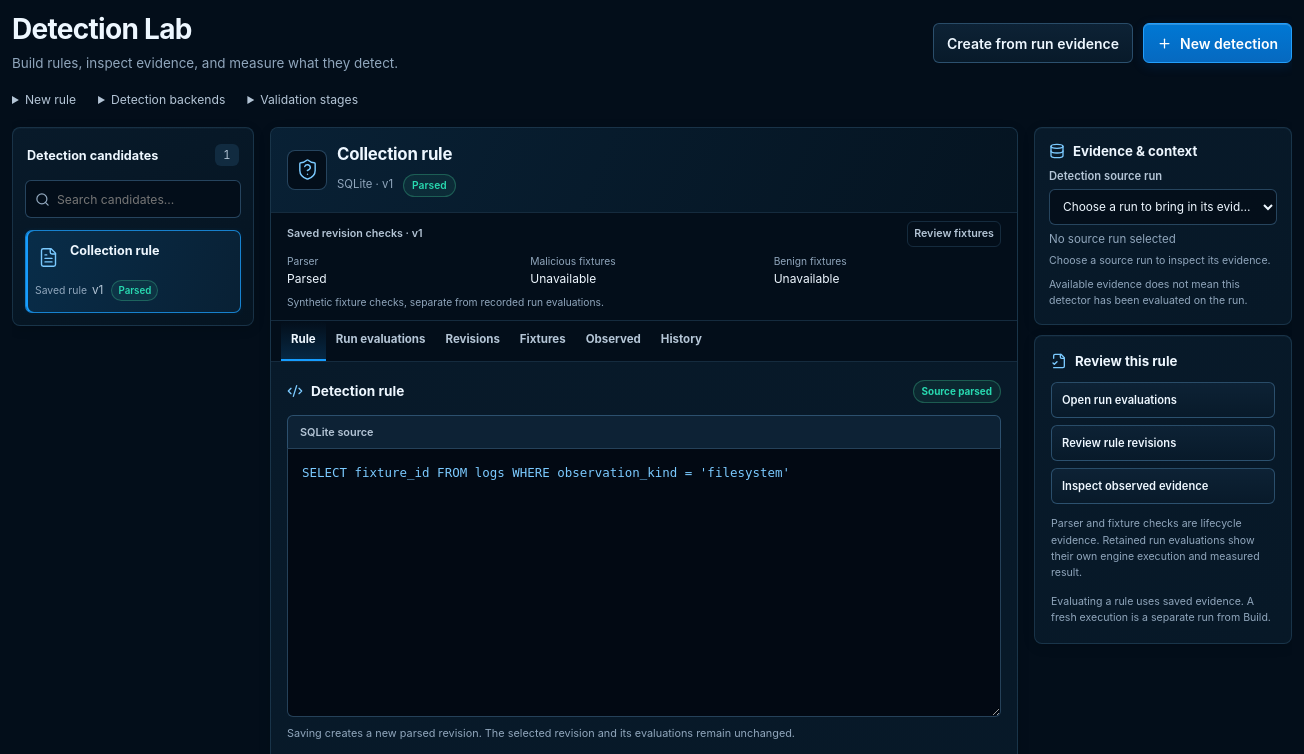
Scenario: keeps source context separate and routes rail actions through the existing review tabs
The image size is (1304, 754).
Check: the text box labelled "SQLite source" is shown, box [287,448,1001,717]
Check: the text "Parser and fixture checks are lifecycle evidence. Retained run evaluations show their own engine execution and measured " is shown, box [1051,517,1260,580]
Click the button "Open run evaluations" at point(1163, 400), box [1051,382,1275,418]
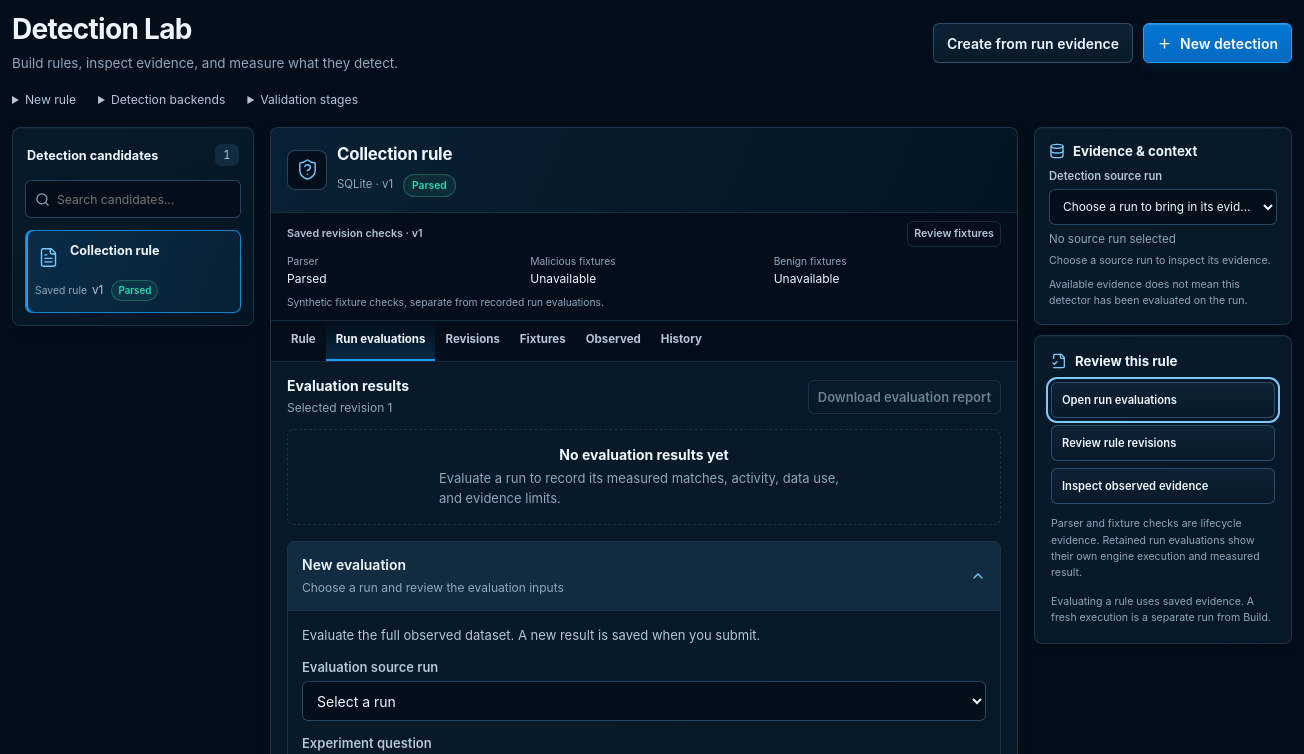
Check: the text "No evaluation results yet" is shown, box [559,446,729,463]
Click the button "Review rule revisions" at point(1163, 443), box [1051,425,1275,461]
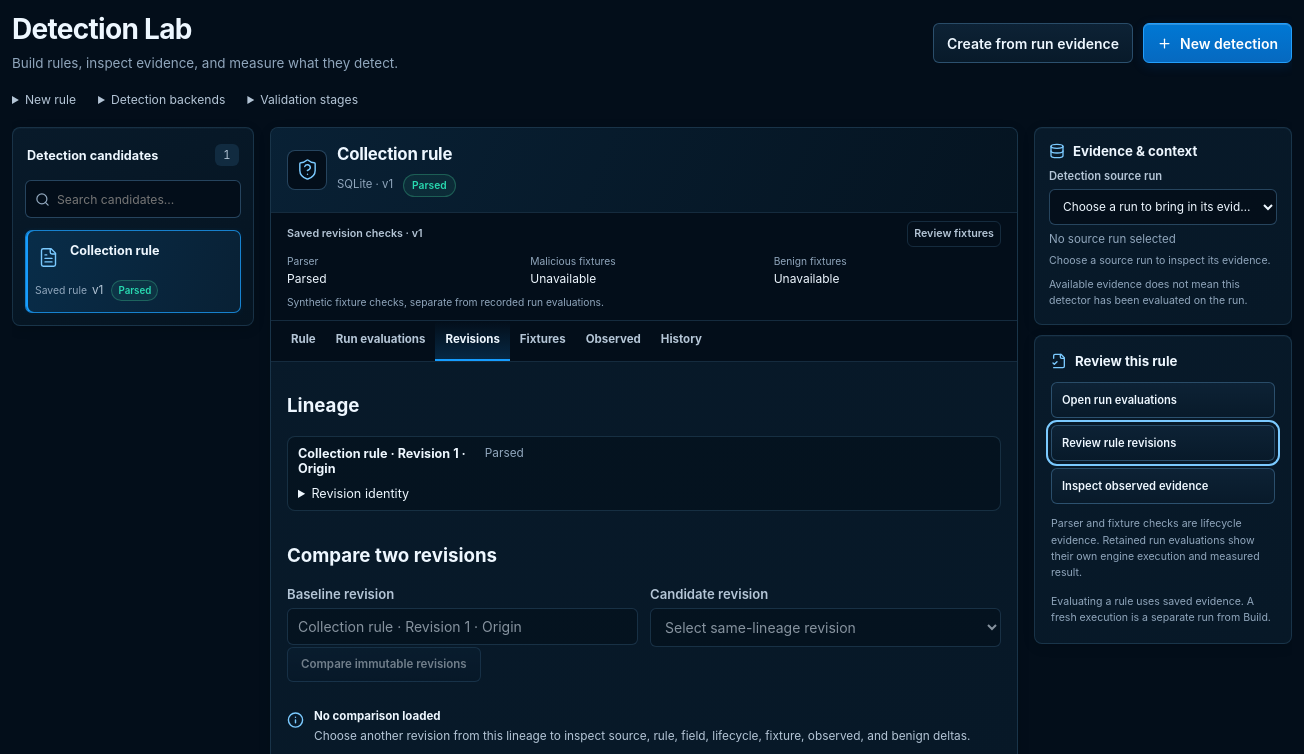
Check: the heading "Compare two revisions" is shown, box [287,544,497,567]
